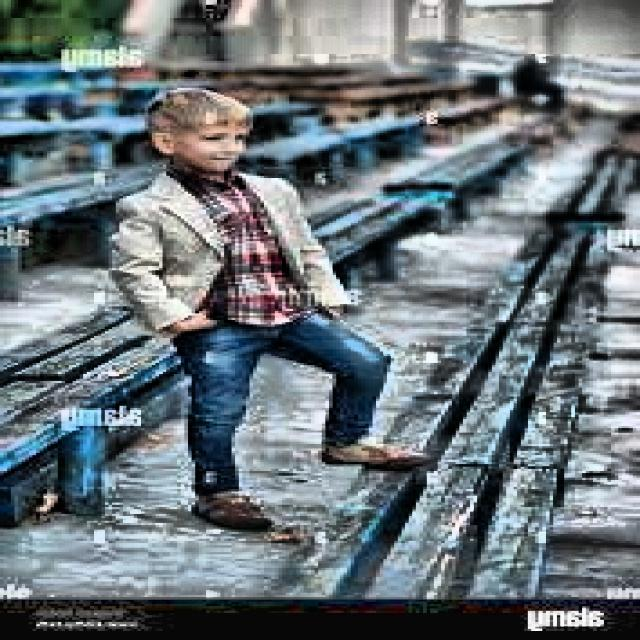Human: (91, 90, 482, 566)
